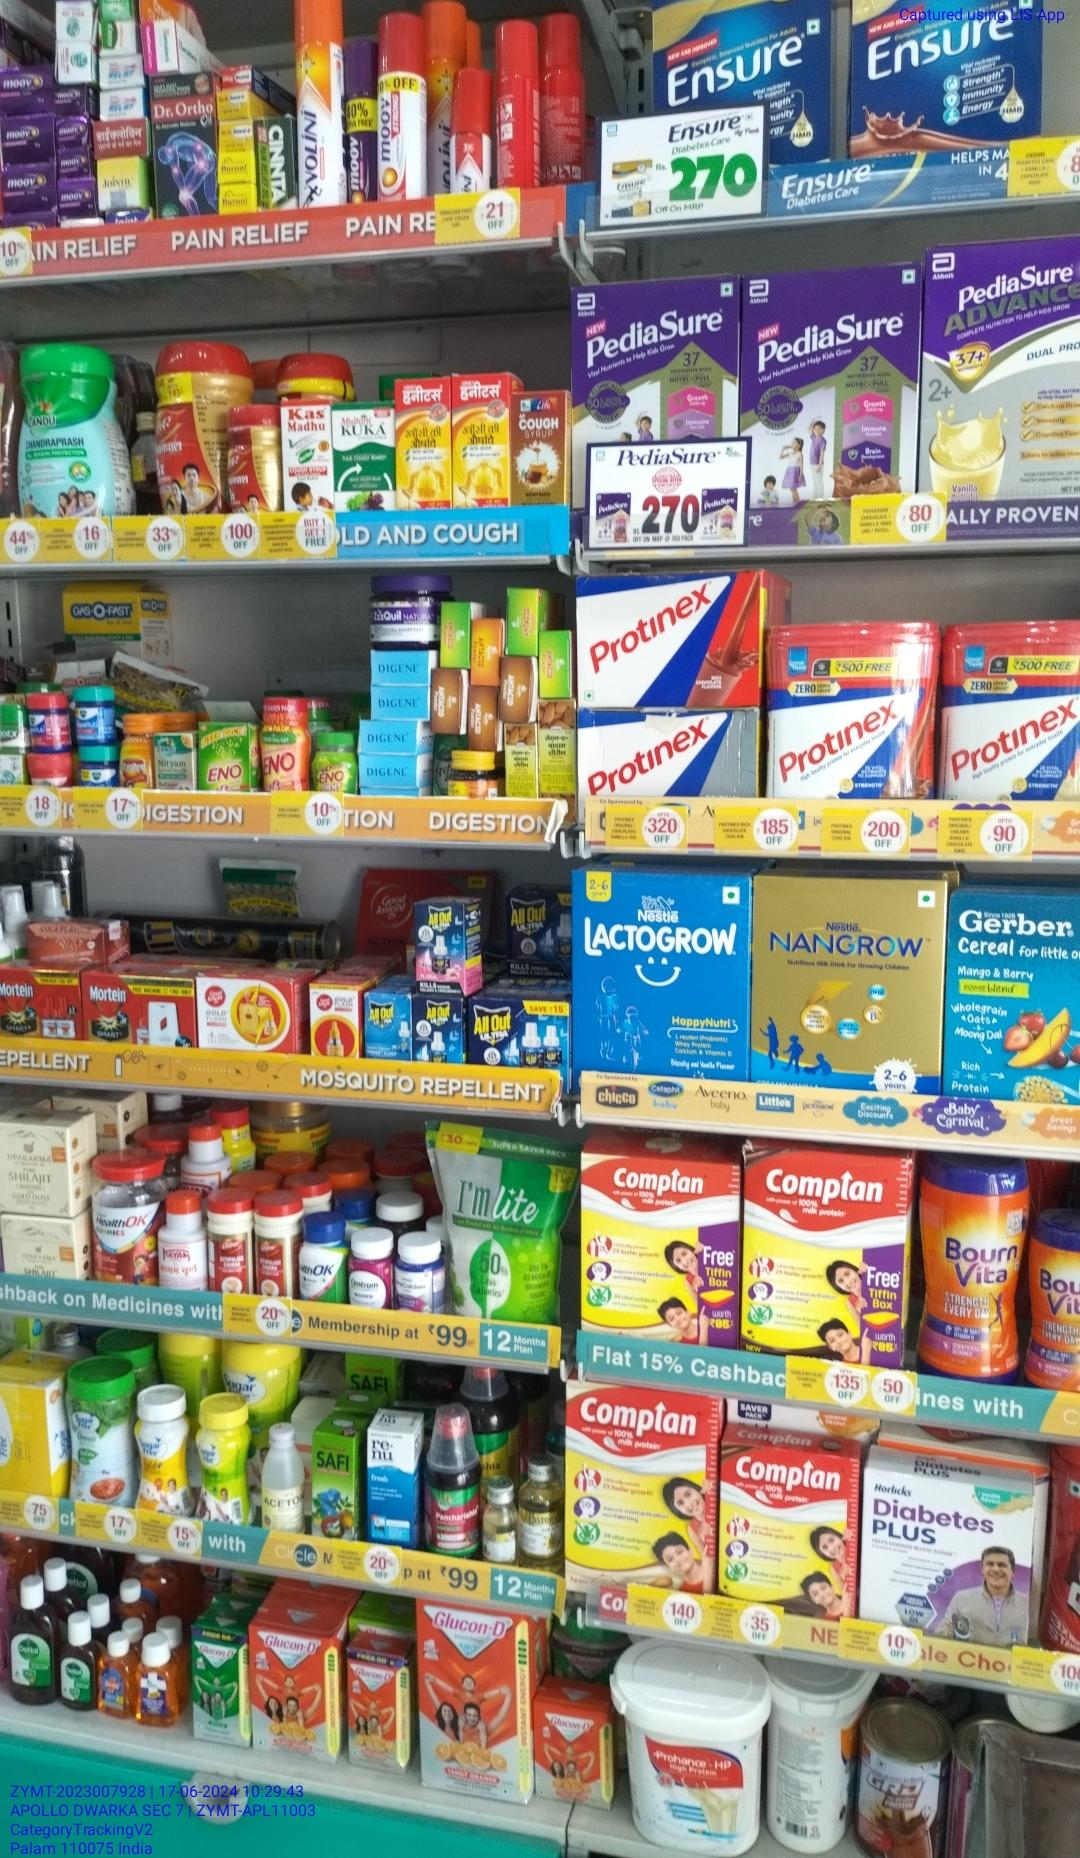BOURN_VITA_200_G_JAR: (1027, 1227, 1080, 1396)
BOURN_VITA_500_G_JAR: (921, 1161, 1020, 1384)
COMPLAN_KESAR_BADAM_500_GMS_PACK: (571, 1377, 716, 1598), (582, 1150, 738, 1341)
PEDIASURE_CHOCOLATE_500_G_PACK: (741, 273, 917, 505)
PROTINEX_CHOCOLATE_400_G_JAR: (771, 621, 927, 809)
PROTINEX_VANILLA_400_G_JAR: (939, 618, 1080, 801)
